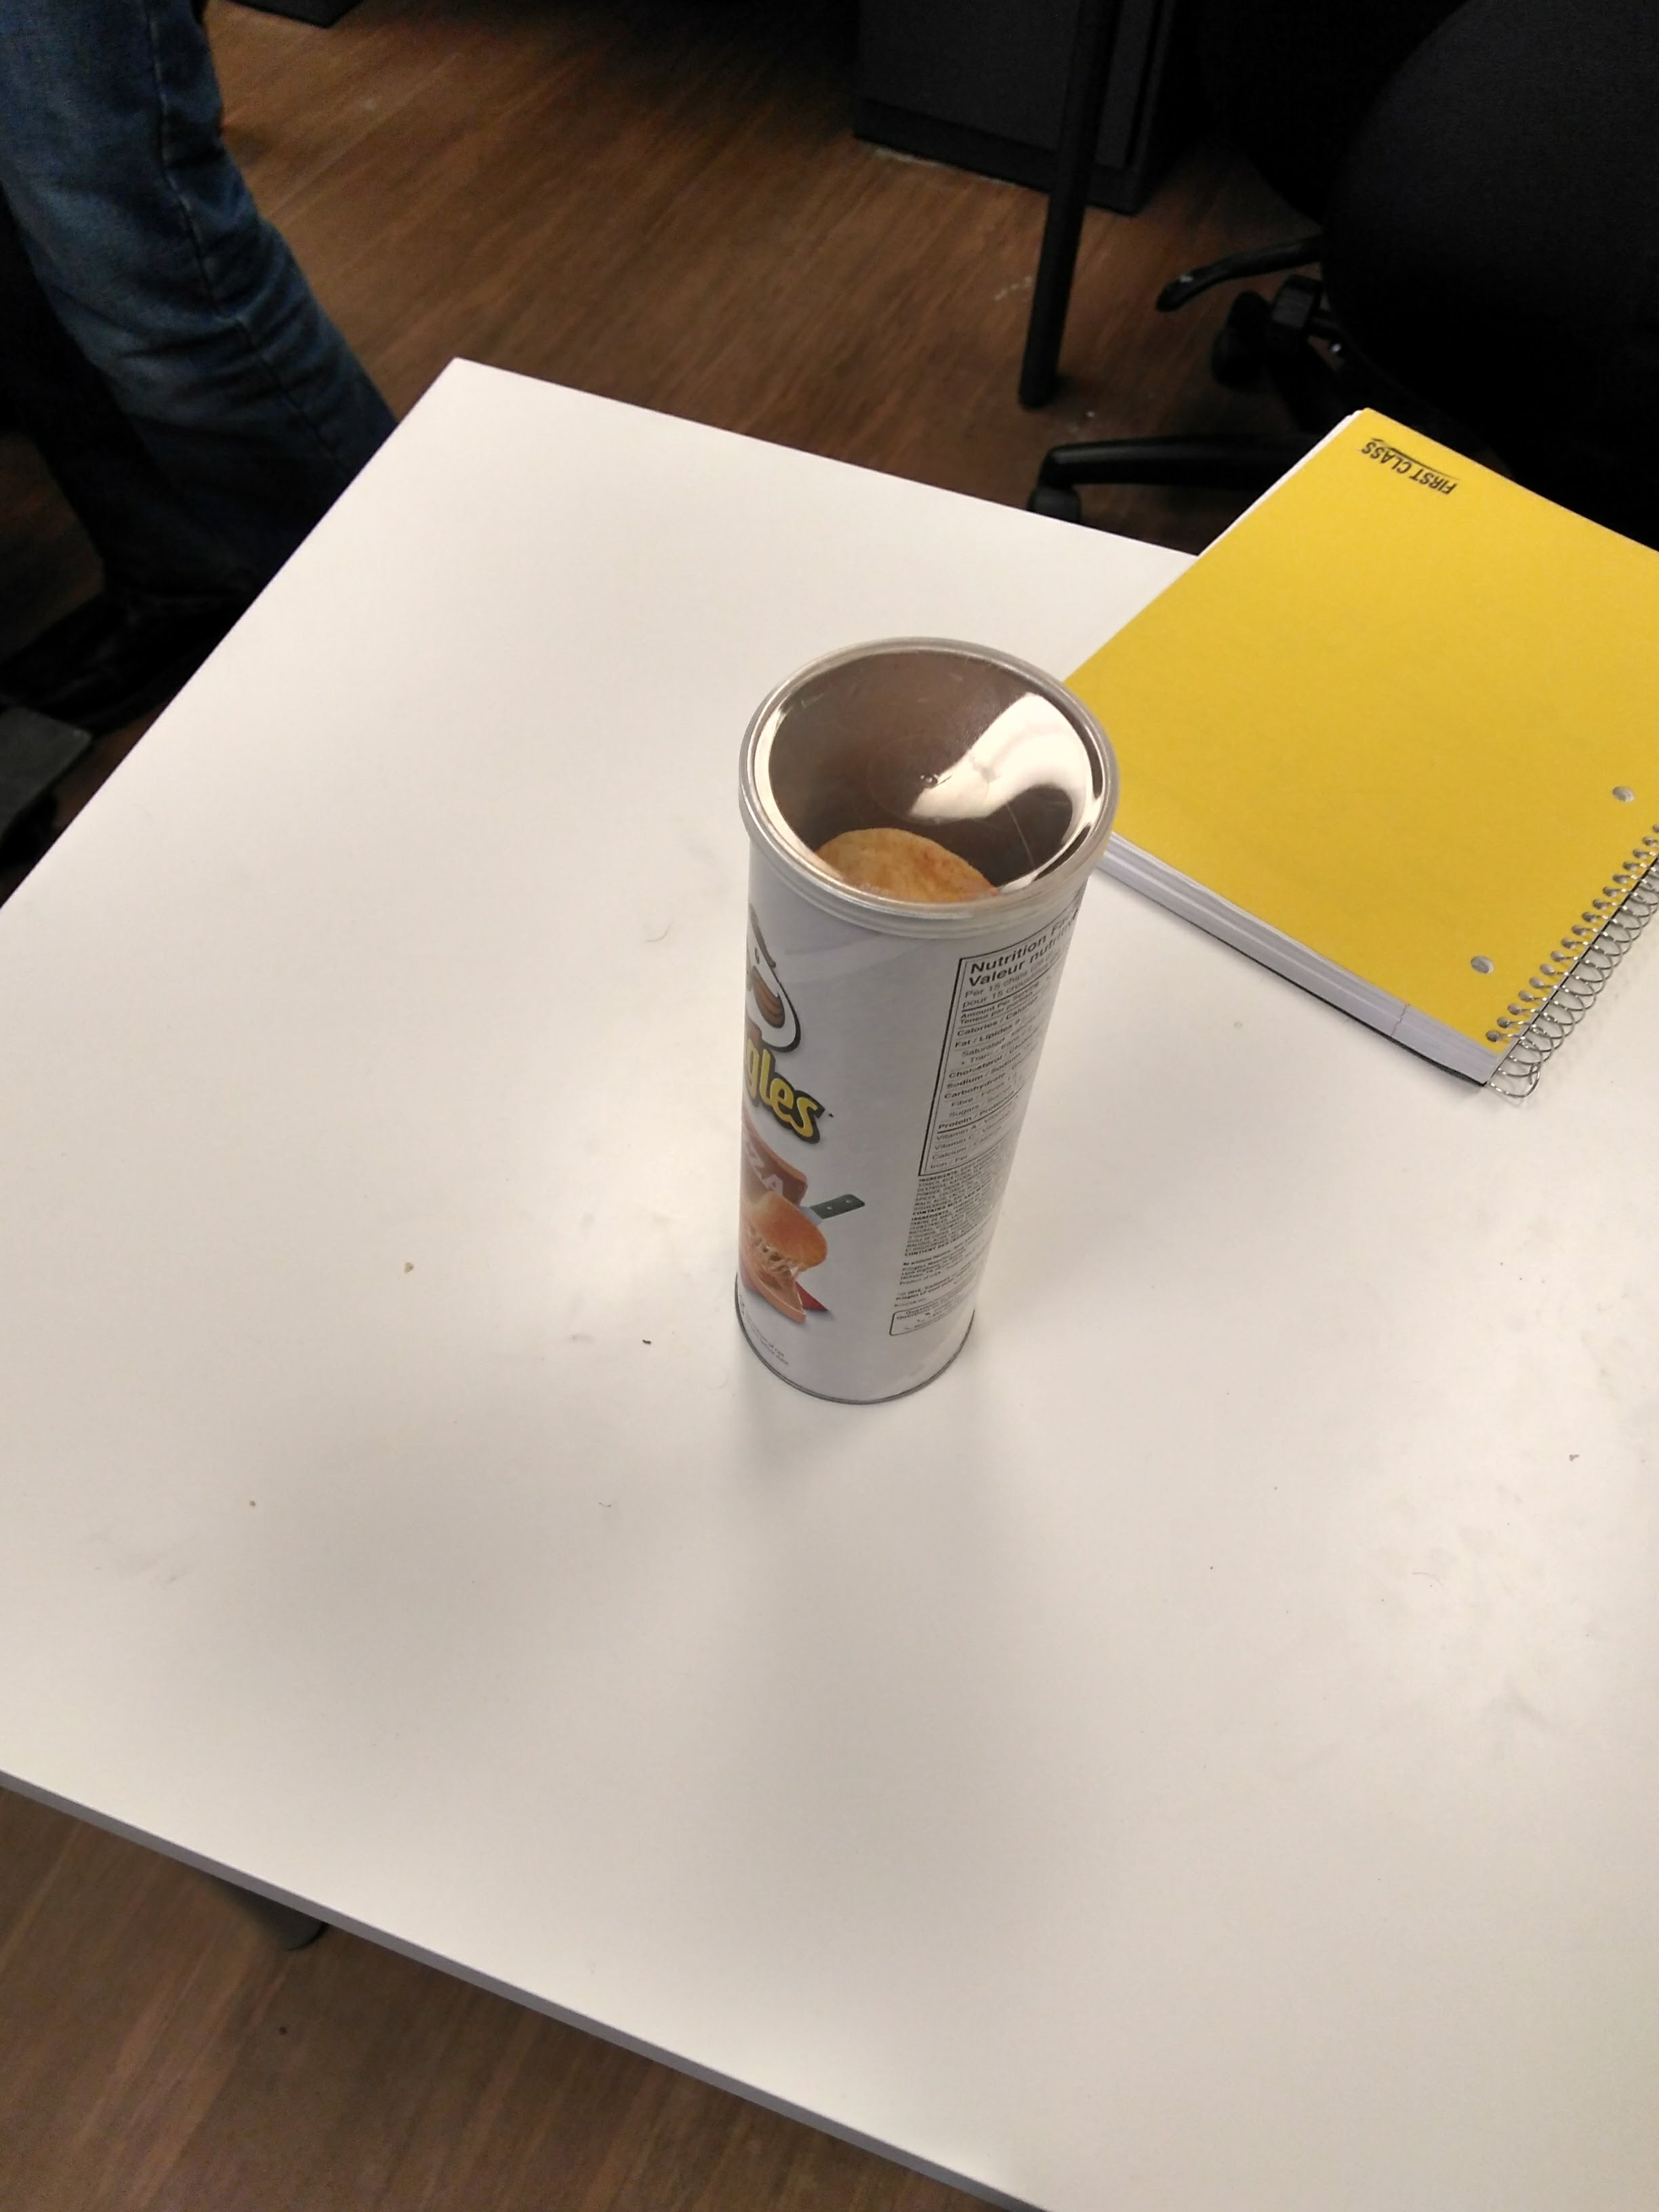pringles: (723, 604, 1122, 1407)
